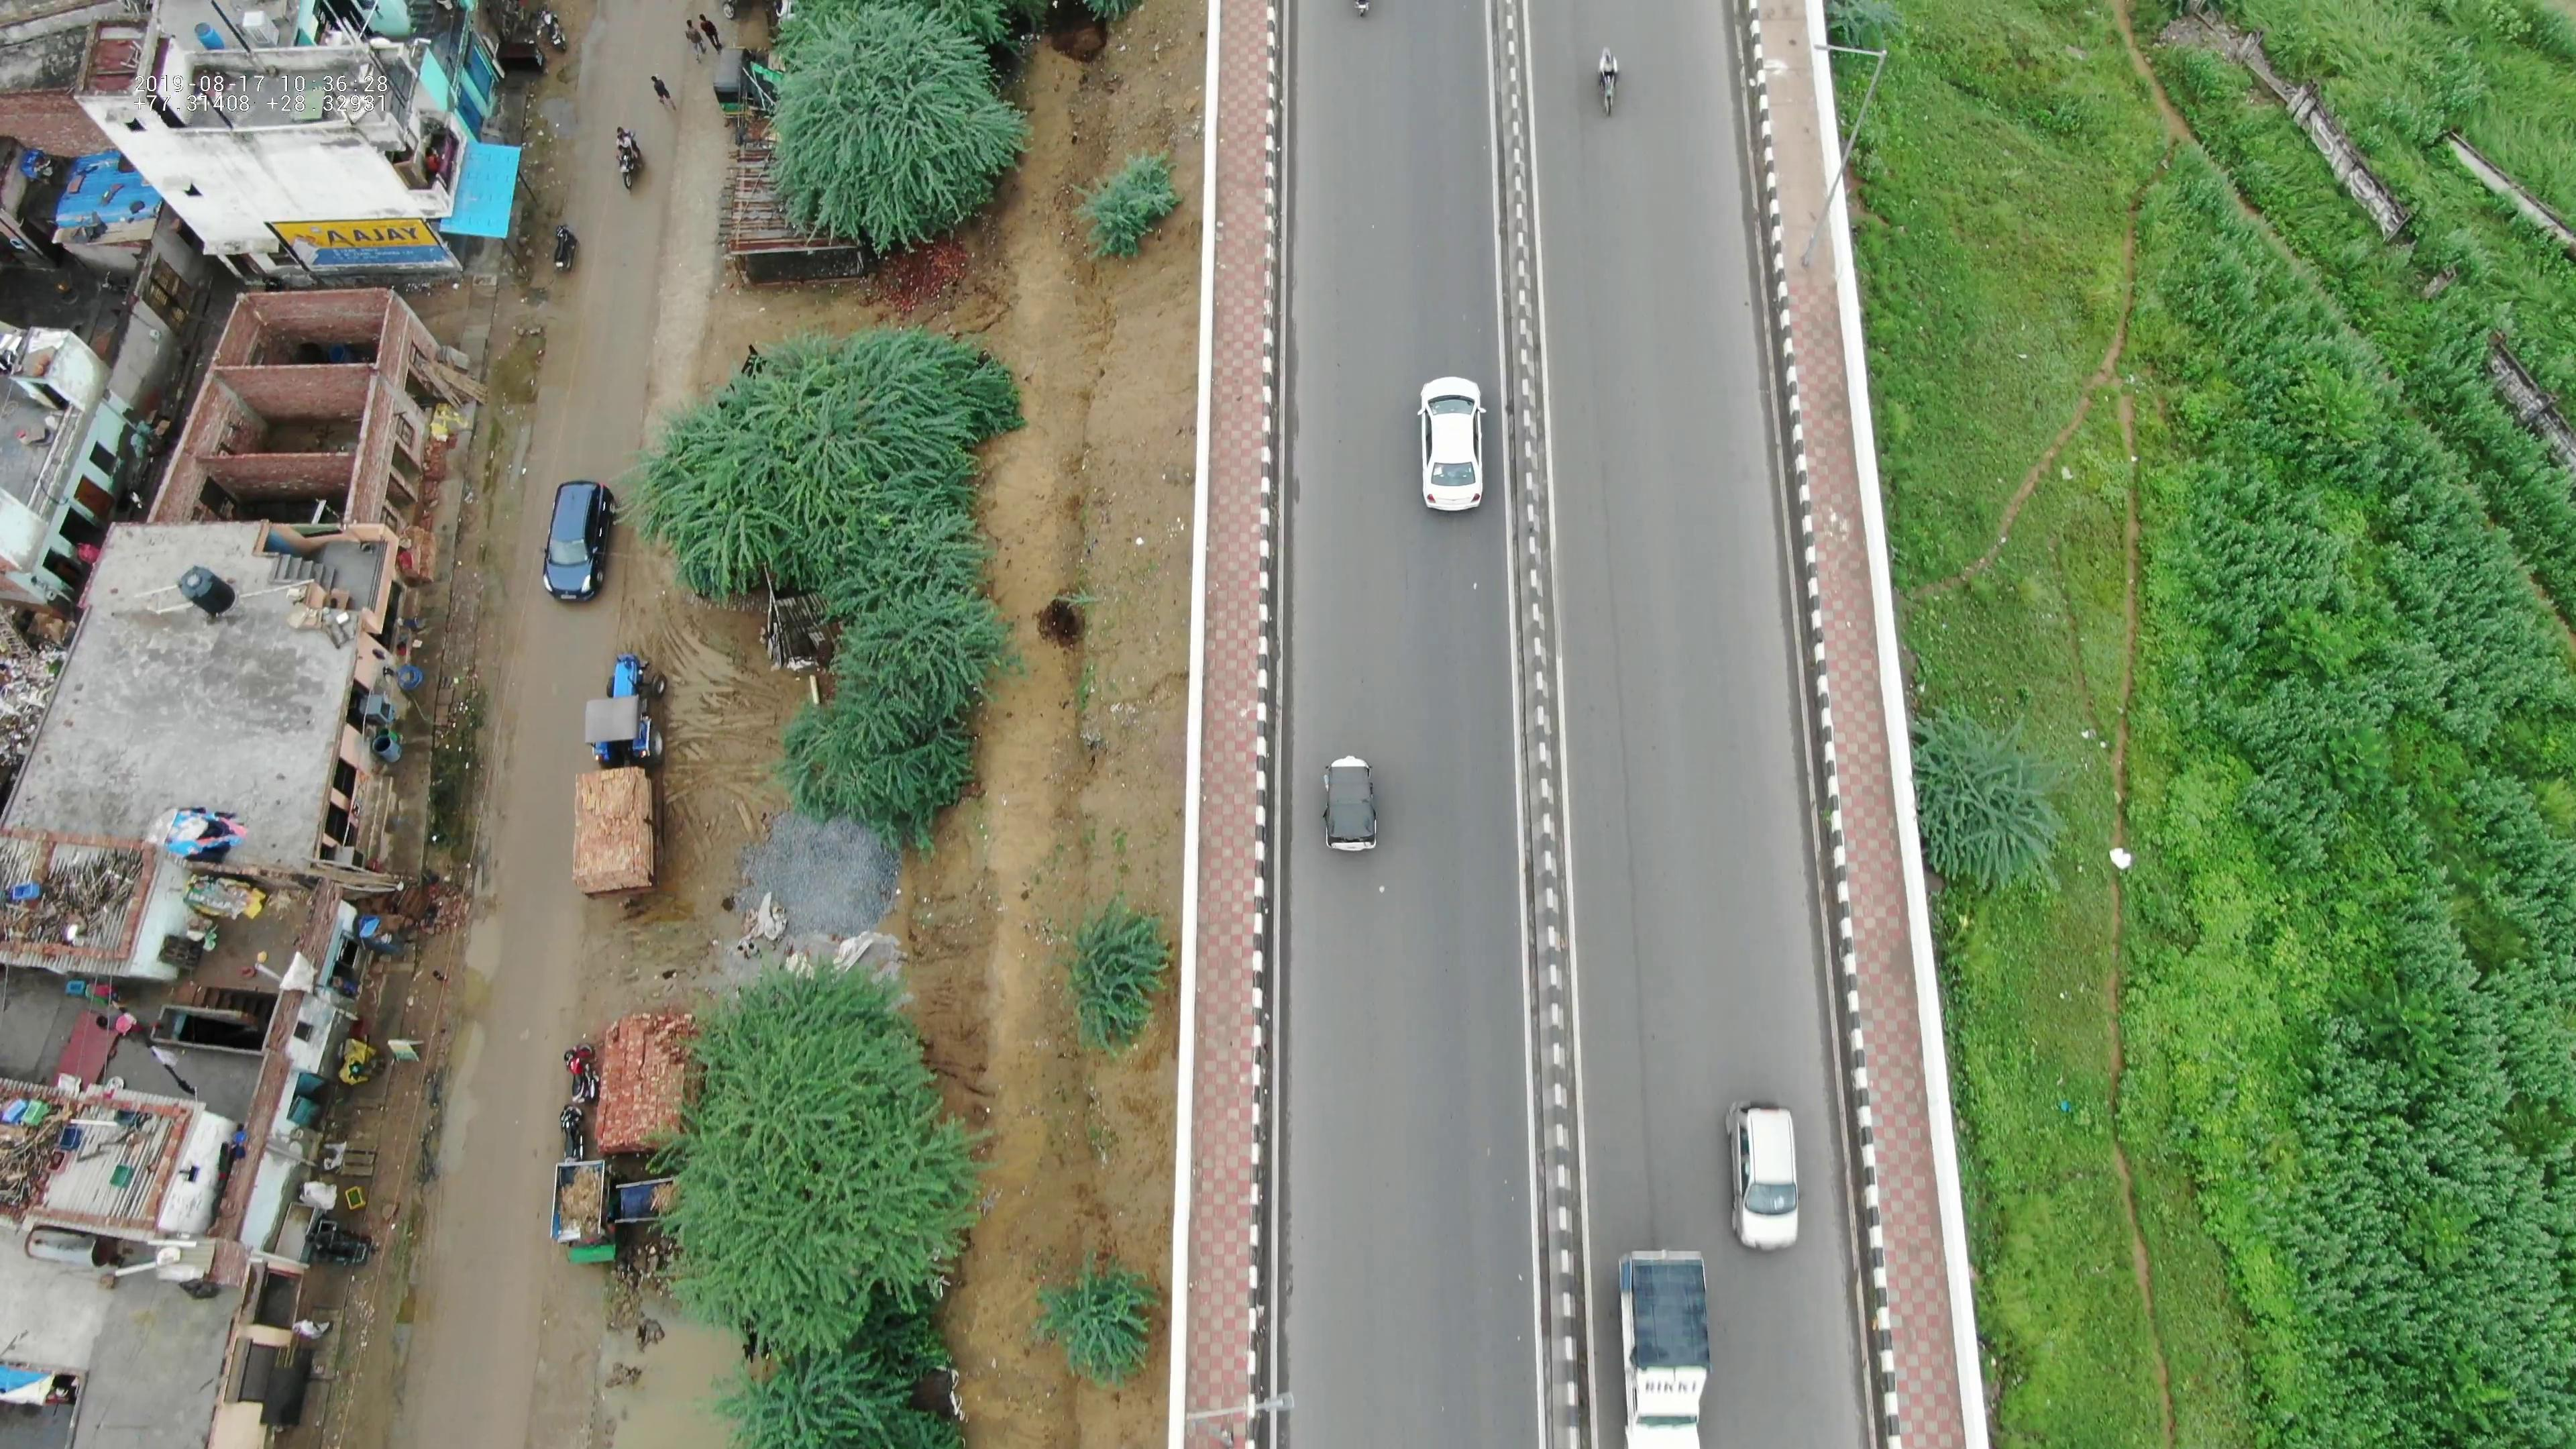Mud_Heaps: (727, 807, 934, 955)
